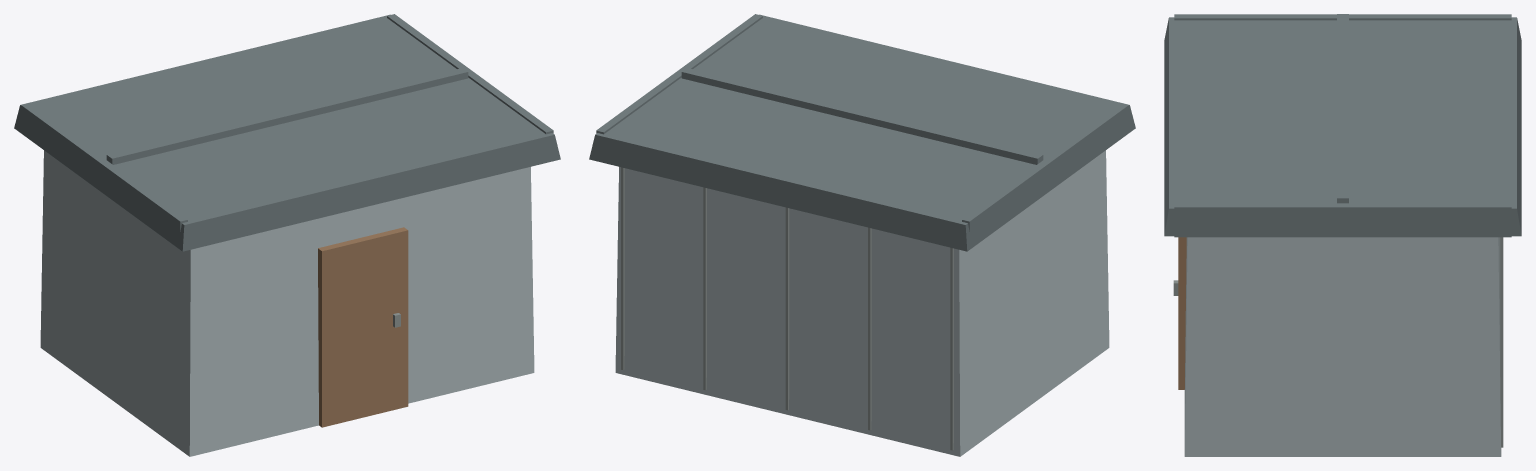
File: tool-shed-high.glb
3 views of the same model, side by side, from view 1: azimuth 30°, elevation 25°; view 2: azimuth 150°, elevation 25°; view 3: azimuth 270°, elevation 25° (orthographic). The views are drawn at different scales.
Visible parts, largest first — view 1: tool-shed; view 2: tool-shed; view 3: tool-shed.
Boxes of the visible parts, box(x1,y1,x2,y2) form: tool-shed: box(14, 14, 560, 456); tool-shed: box(589, 14, 1135, 456); tool-shed: box(1164, 14, 1521, 456).
Size of the model in its own units: 3.95 by 2.46 by 3.05.
